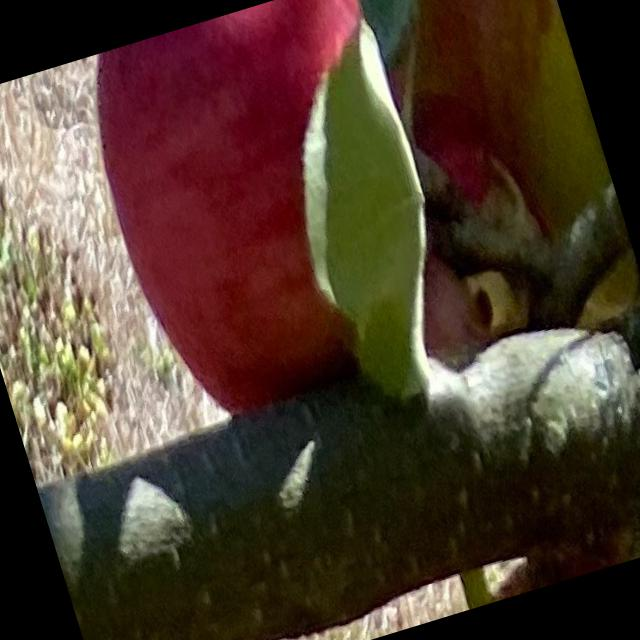Apples: (70, 0, 469, 441)
